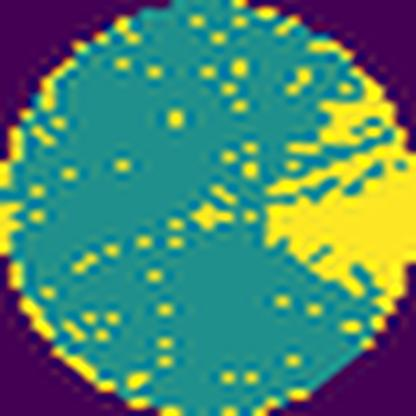Edge-Loc: (262, 64, 415, 324)
